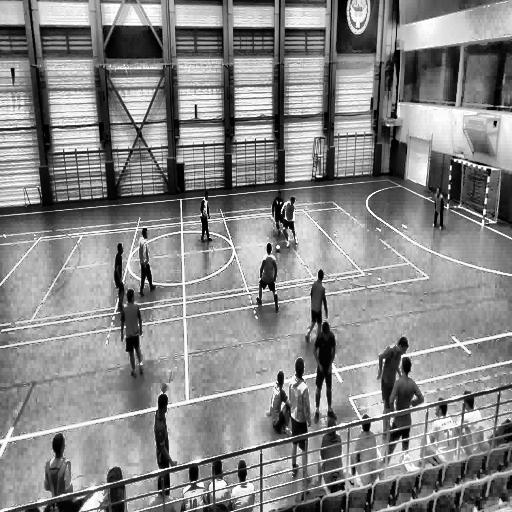ball: (275, 243, 280, 252)
player: (377, 335, 412, 444), (284, 359, 310, 481), (312, 319, 336, 425), (456, 387, 488, 456), (156, 384, 176, 492), (122, 287, 144, 380), (428, 394, 456, 465), (44, 433, 73, 496), (268, 369, 293, 437), (304, 268, 325, 346), (257, 242, 279, 311), (180, 460, 206, 512), (230, 461, 256, 512), (138, 227, 157, 296), (208, 457, 230, 510), (146, 473, 175, 512), (280, 195, 298, 248), (113, 240, 126, 312), (271, 189, 287, 238), (200, 190, 212, 245), (431, 187, 444, 230)
